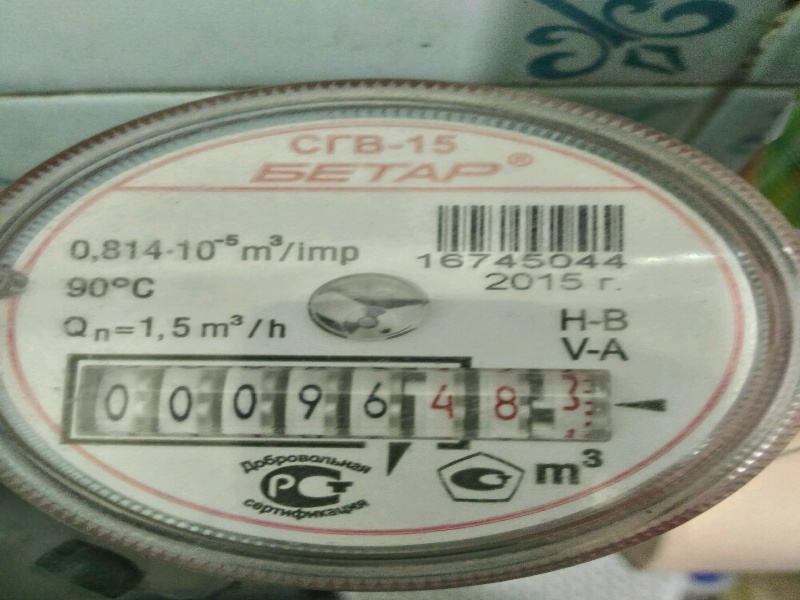meter: (67, 370, 602, 442)
